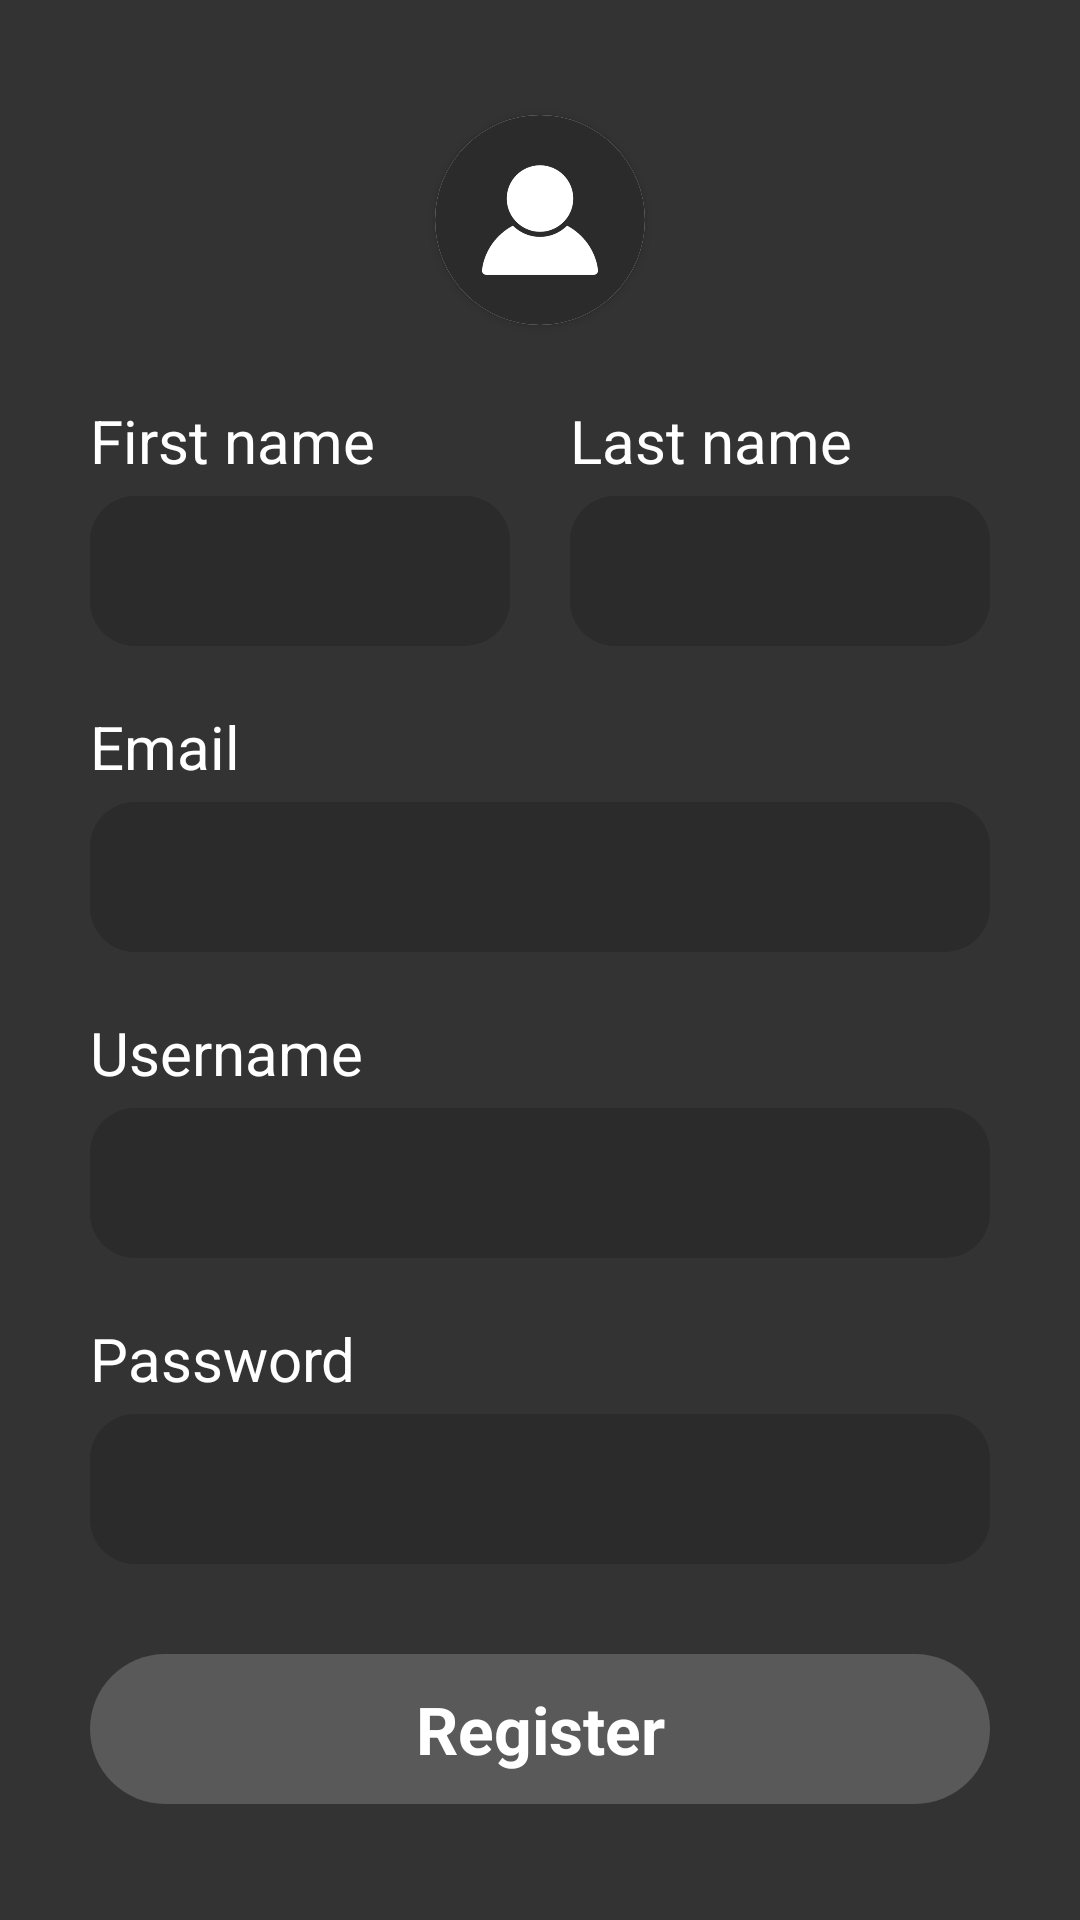

Icon bounding boxes for this 1080×1920 phone screenshot, format (x1, y1, x2, y2):
profile picture: (435, 115, 645, 325)
